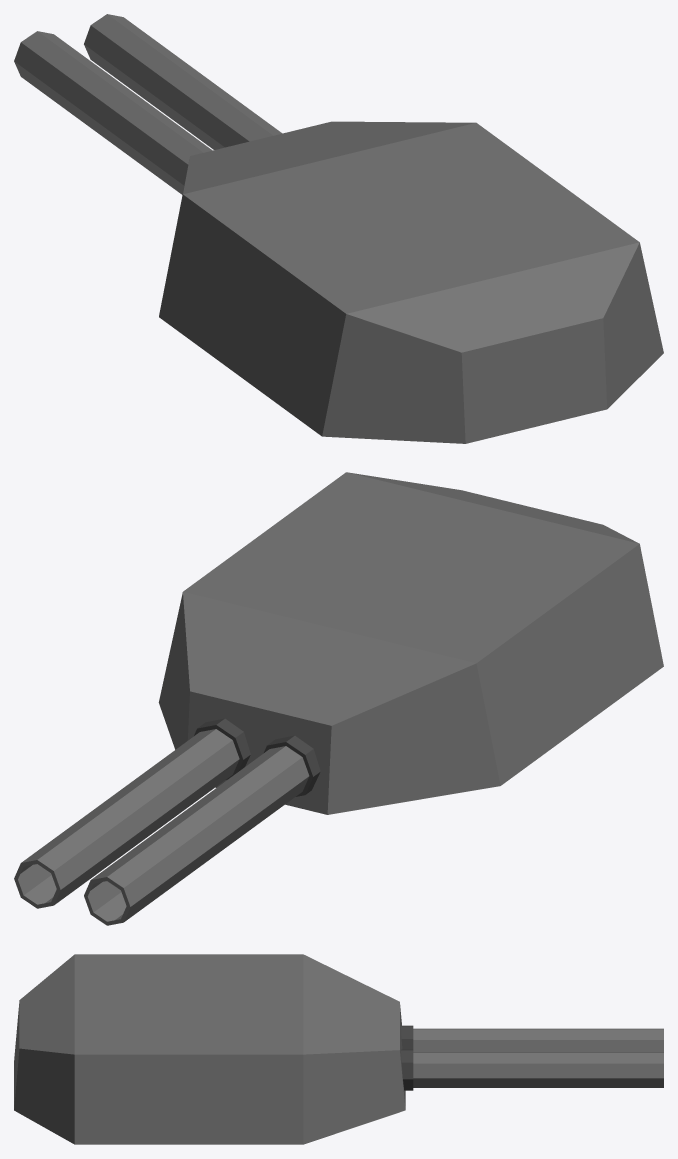
The model's file is Gun2.fbx.
3 views of the same model, one above another, from view 1: azimuth 30°, elevation 25°; view 2: azimuth 150°, elevation 25°; view 3: azimuth 270°, elevation 25° (orthographic). The views are drawn at different scales.
Parts seen in each view (by area): view 1: Cube.002; view 2: Cube.002; view 3: Cube.002.
Boxes of the visible parts, bbox=[...] form: Cube.002: bbox=[14, 14, 663, 443]; Cube.002: bbox=[14, 472, 663, 925]; Cube.002: bbox=[14, 954, 663, 1144].
Bounding box in the file's own units: 146 × 47.83 × 344.
Materials: 1 (1 with a texture image).
